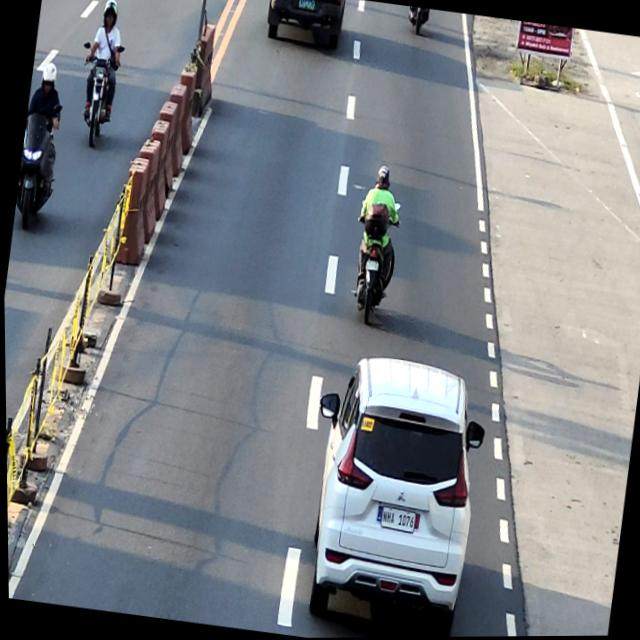Car: (287, 350, 493, 638), (263, 0, 347, 49)
License-Plate: (378, 508, 415, 533), (298, 0, 315, 11), (364, 260, 379, 271)
Motorcycle: (346, 197, 403, 327), (11, 100, 64, 232), (70, 41, 127, 151)
